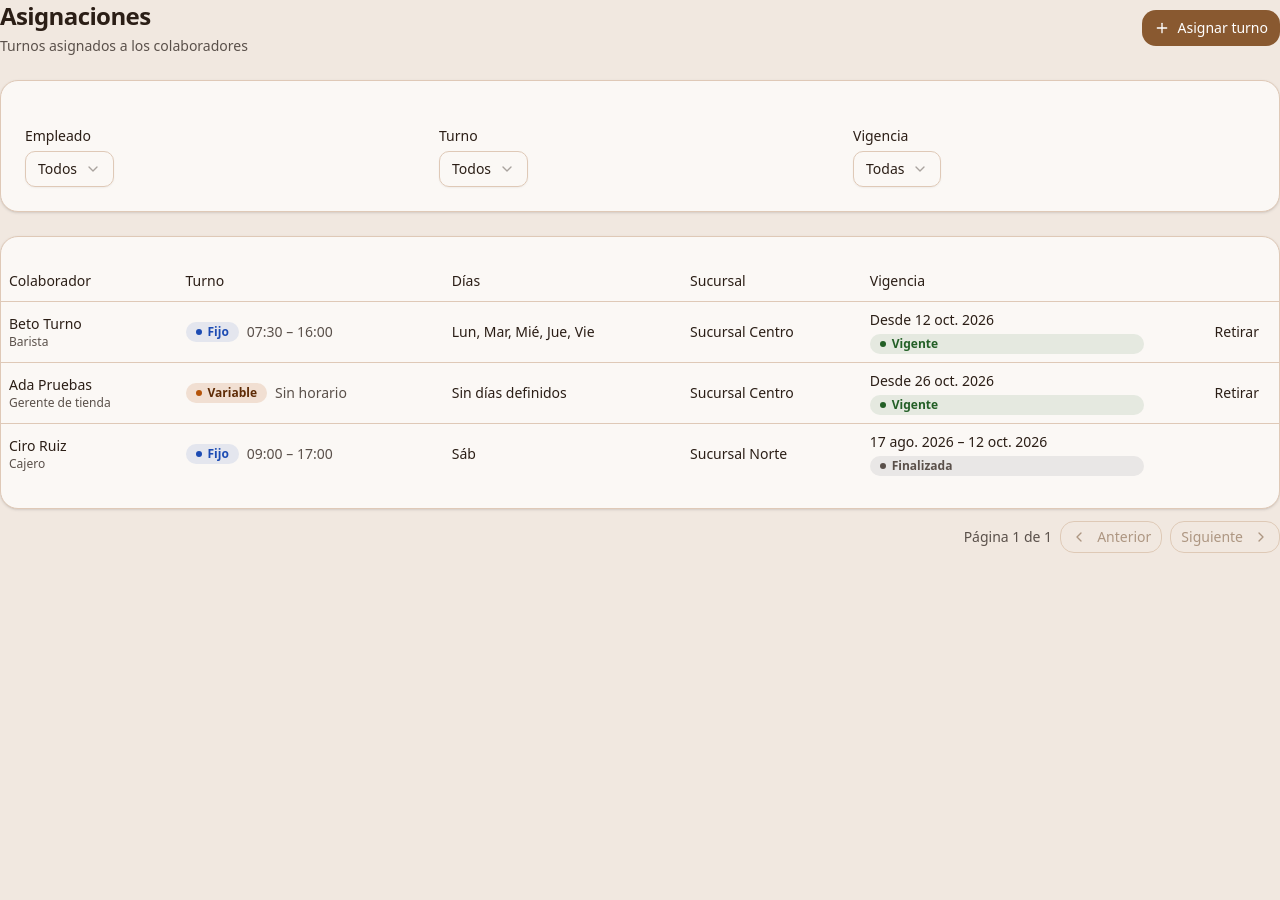
Test: Listado de asignaciones › avisa si la fecha de fin es anterior a la de inicio
The width and height of the screenshot is (1280, 900).
Check: the text "Beto Turno" is shown, box [9, 314, 82, 332]
Click the button "Retirar" in the row of "Beto Turno": point(1237, 332) [1203, 316, 1271, 348]
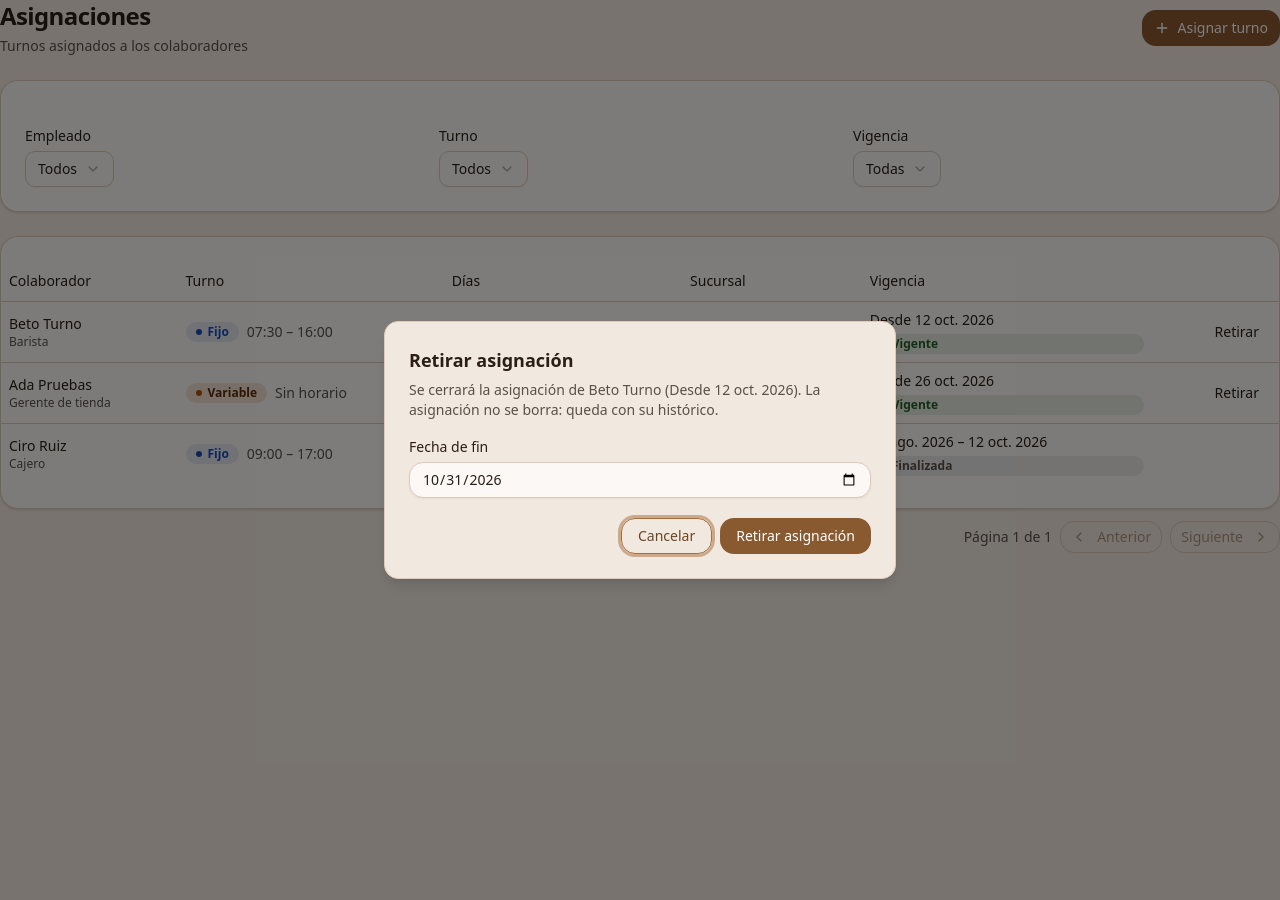
In the date field labelled "Fecha de fin": point(640, 480) [409, 462, 871, 498], type "2020-01-01"
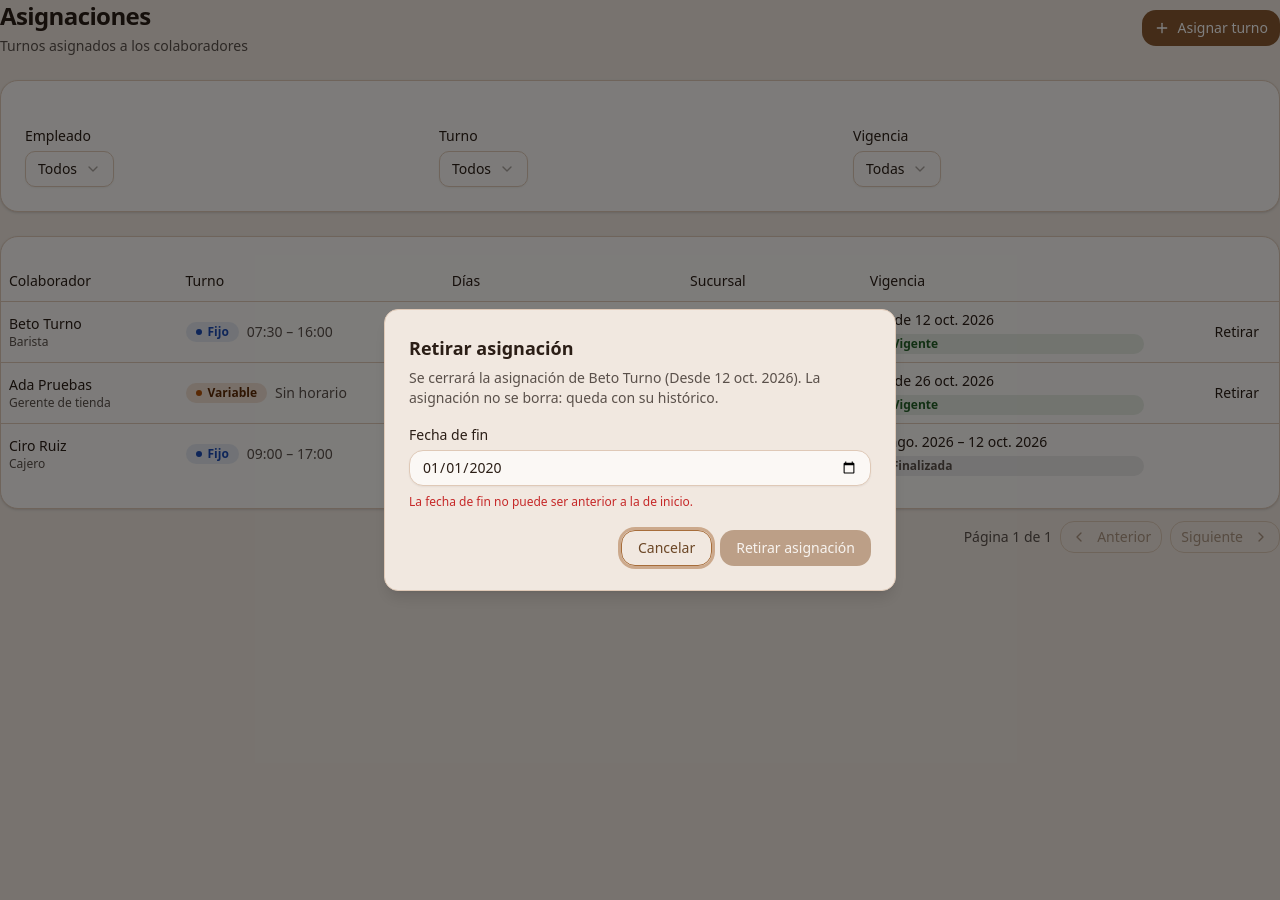
Check: the text "La fecha de fin no puede ser anterior a la de inicio." is shown, box [409, 493, 693, 510]
